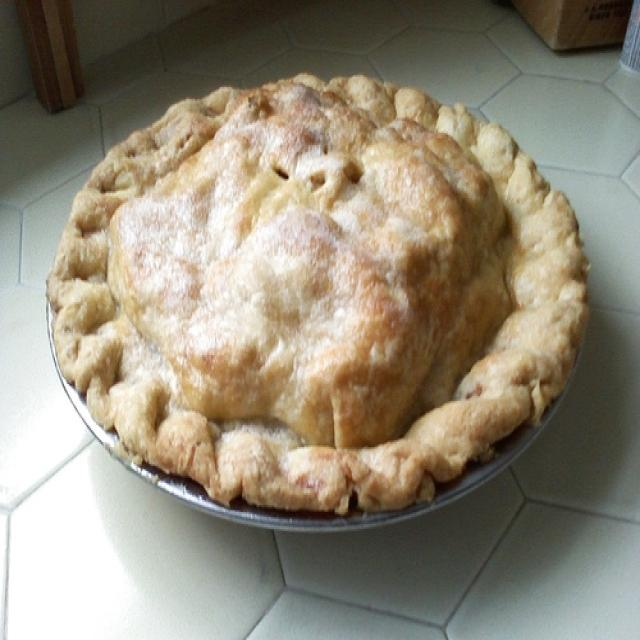炸货点心: (45, 72, 598, 536)
蛋糕甜品: (45, 72, 598, 536)
